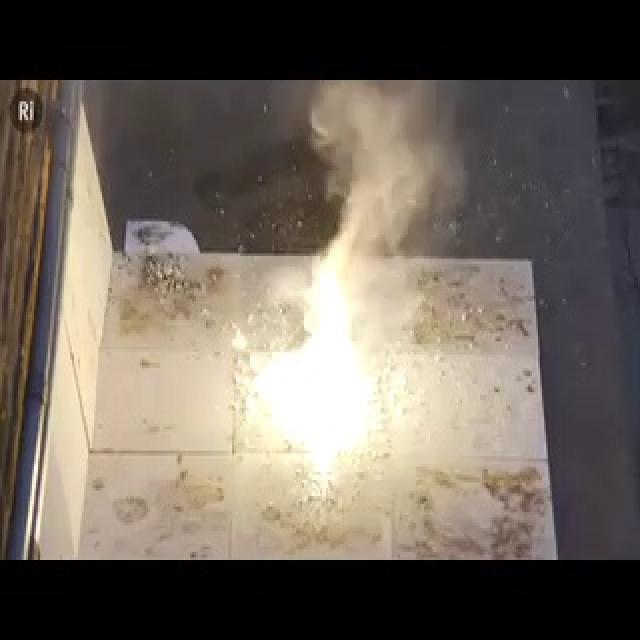Fire: (249, 238, 389, 476)
Smoke: (289, 83, 468, 250)
